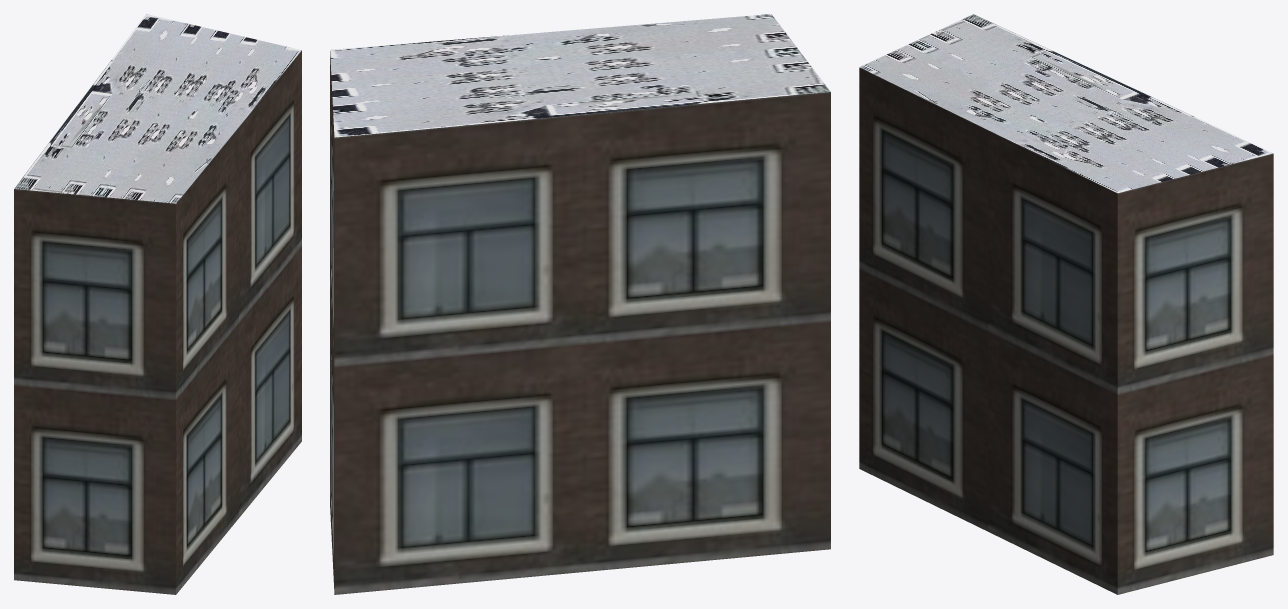
Rendered from ResTex__839.fbx.
The picture shows the model from 3 angles, left to right: view 1: azimuth 30°, elevation 25°; view 2: azimuth 150°, elevation 25°; view 3: azimuth 270°, elevation 25°; orthographic projection. The views are drawn at different scales.
Parts seen in each view (by area): view 1: CityEngineMaterial_16_m, CityEngineMaterial_15_m; view 2: CityEngineMaterial_16_m, CityEngineMaterial_15_m; view 3: CityEngineMaterial_16_m, CityEngineMaterial_15_m.
Boxes of the visible parts, x1=… form: CityEngineMaterial_16_m: x1=14, y1=50, x2=301, y2=594; CityEngineMaterial_15_m: x1=14, y1=14, x2=301, y2=203; CityEngineMaterial_16_m: x1=330, y1=51, x2=830, y2=594; CityEngineMaterial_15_m: x1=330, y1=14, x2=830, y2=137; CityEngineMaterial_16_m: x1=859, y1=67, x2=1273, y2=594; CityEngineMaterial_15_m: x1=859, y1=14, x2=1273, y2=193.
Size of the model in its own units: 5.75 by 6 by 5.61.
Materials: 2 (2 with a texture image).
